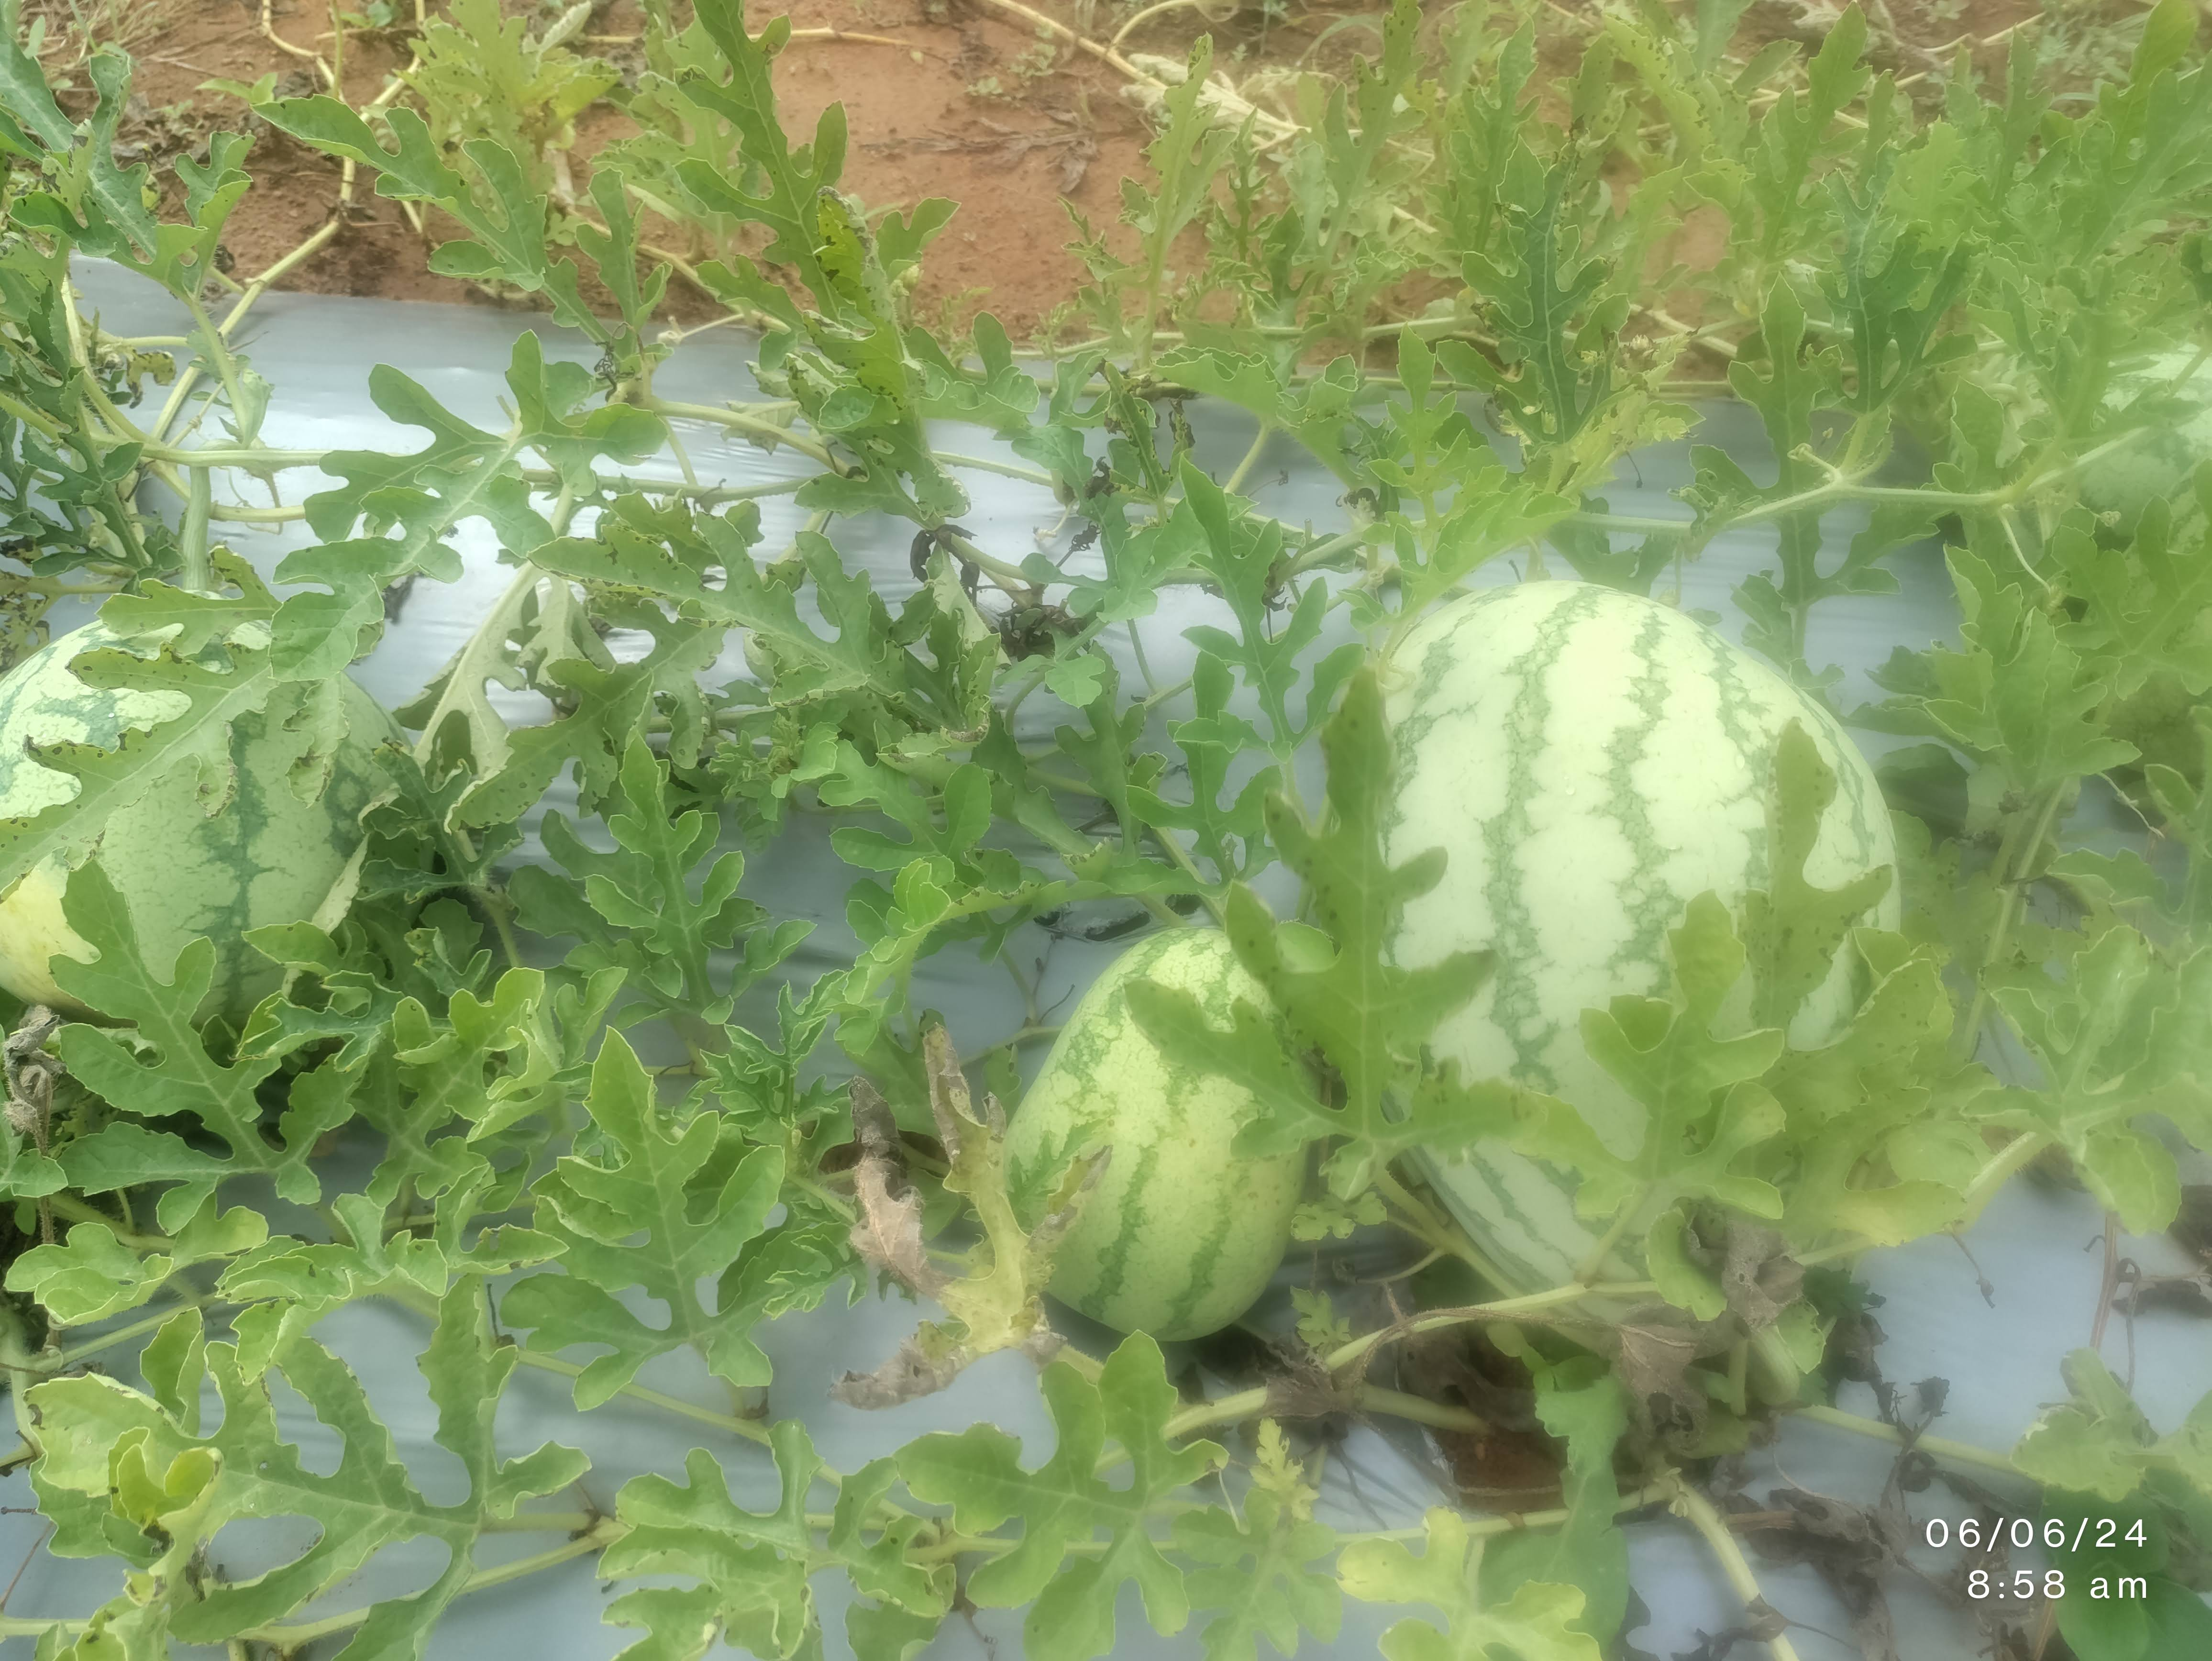good-to-harvest: (1338, 515, 1999, 1391)
not-good-to-harvest: (0, 518, 450, 1075), (970, 865, 1340, 1403)
